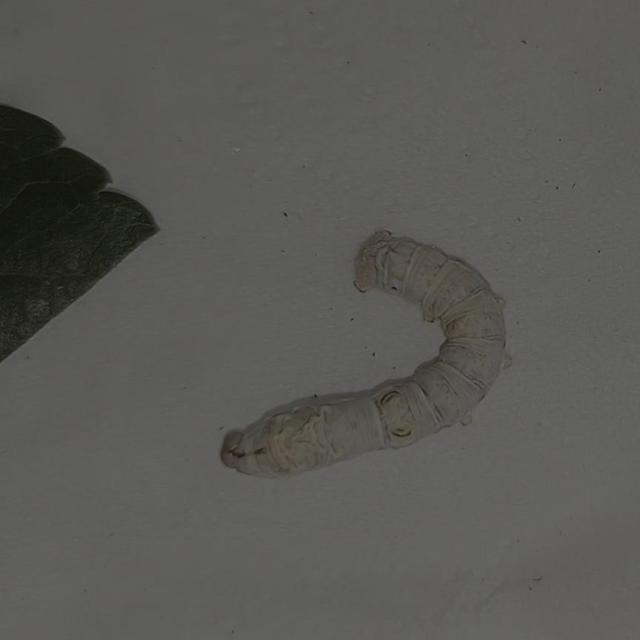Healthy: (169, 196, 554, 529)
